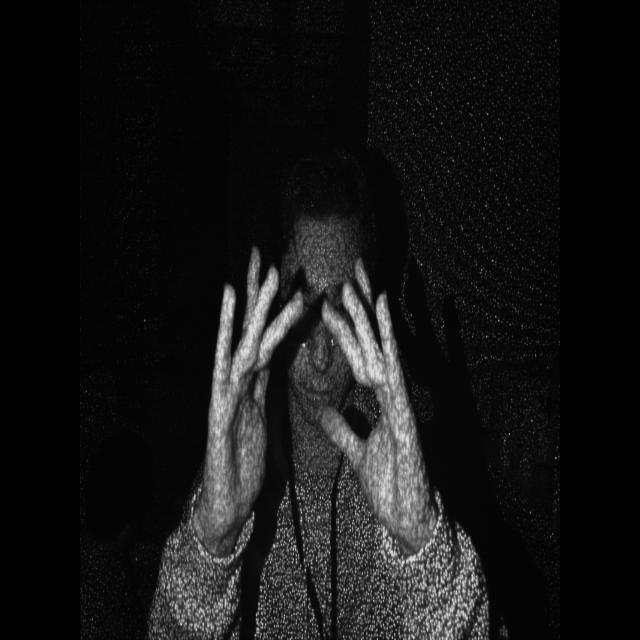REACH: (206, 234, 442, 548)
